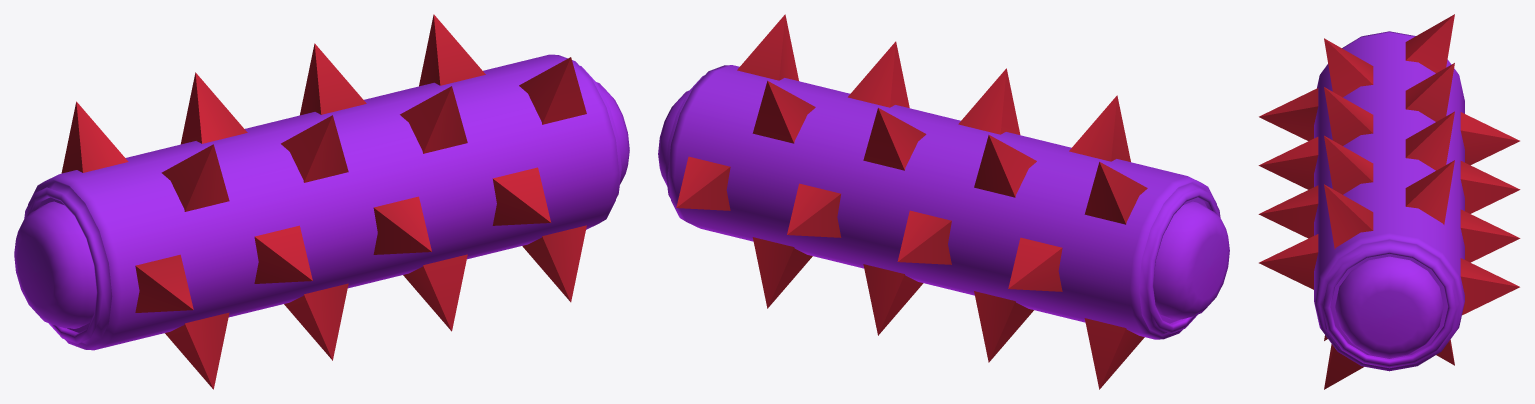
The model's file is Obs_06.fbx.
The picture shows the model from 3 angles, left to right: view 1: azimuth 30°, elevation 25°; view 2: azimuth 150°, elevation 25°; view 3: azimuth 270°, elevation 25°; orthographic projection. The views are drawn at different scales.
Parts seen in each view (by area): view 1: Obs_06_01, Obs_06; view 2: Obs_06_01, Obs_06; view 3: Obs_06_01, Obs_06.
Boxes of the visible parts, x1,y1,x2,y2 form: Obs_06_01: (14, 54, 629, 350); Obs_06: (61, 14, 586, 389); Obs_06_01: (658, 65, 1229, 339); Obs_06: (676, 14, 1147, 389); Obs_06_01: (1314, 31, 1464, 371); Obs_06: (1258, 14, 1520, 389).
Size of the model in its own units: 2.25 by 0.9212 by 1.06.
